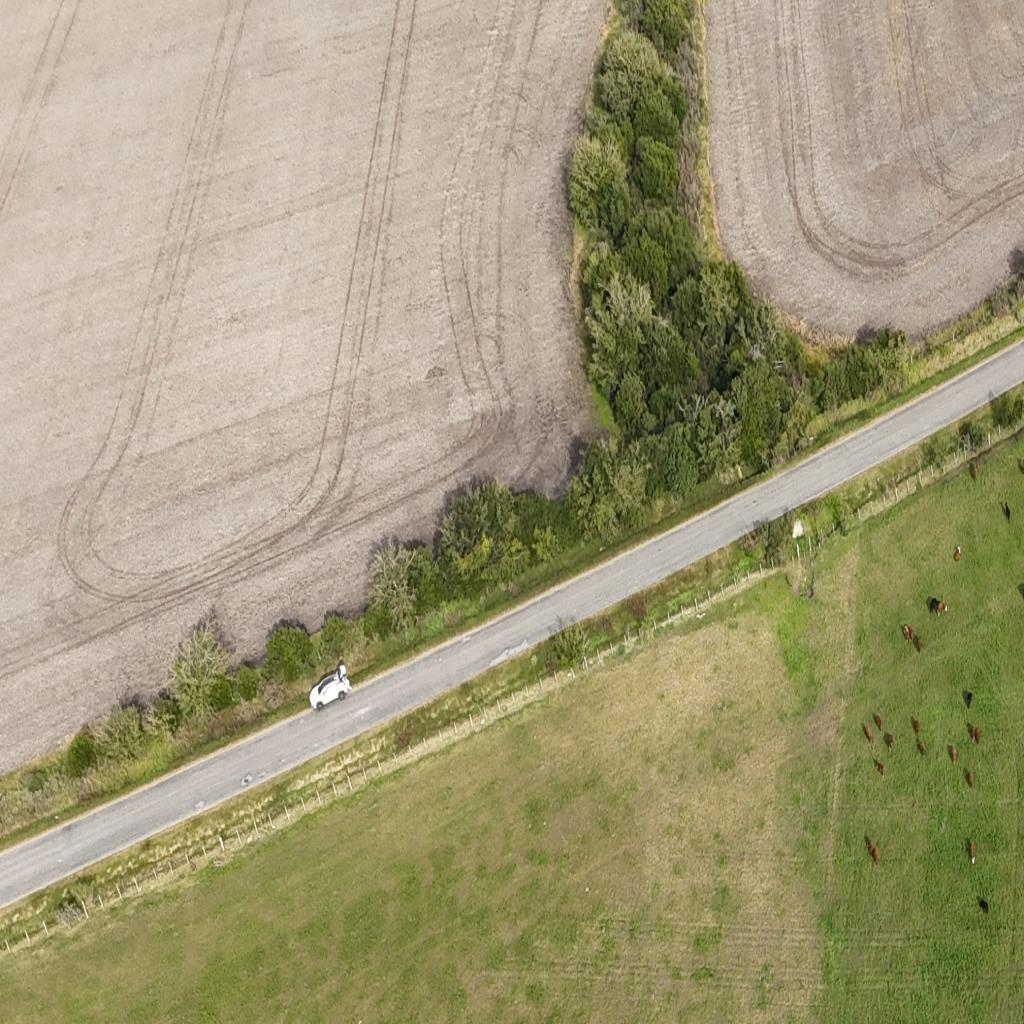cow: (972, 893, 994, 922), (924, 591, 939, 614), (966, 838, 976, 865), (874, 714, 884, 738), (884, 733, 894, 754), (865, 836, 874, 858), (864, 722, 872, 746), (964, 690, 974, 709), (1002, 502, 1011, 523), (911, 717, 920, 737), (970, 463, 979, 482), (876, 760, 885, 778), (872, 847, 881, 865), (968, 723, 975, 745), (937, 602, 948, 616), (950, 745, 958, 764), (915, 636, 923, 654), (966, 769, 974, 787), (907, 623, 915, 641), (902, 623, 909, 643), (954, 545, 962, 562), (975, 726, 982, 744), (918, 740, 925, 756), (1021, 460, 1024, 476)
